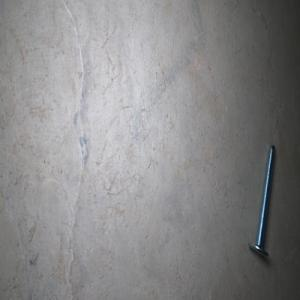Bolt: (247, 143, 276, 257)
